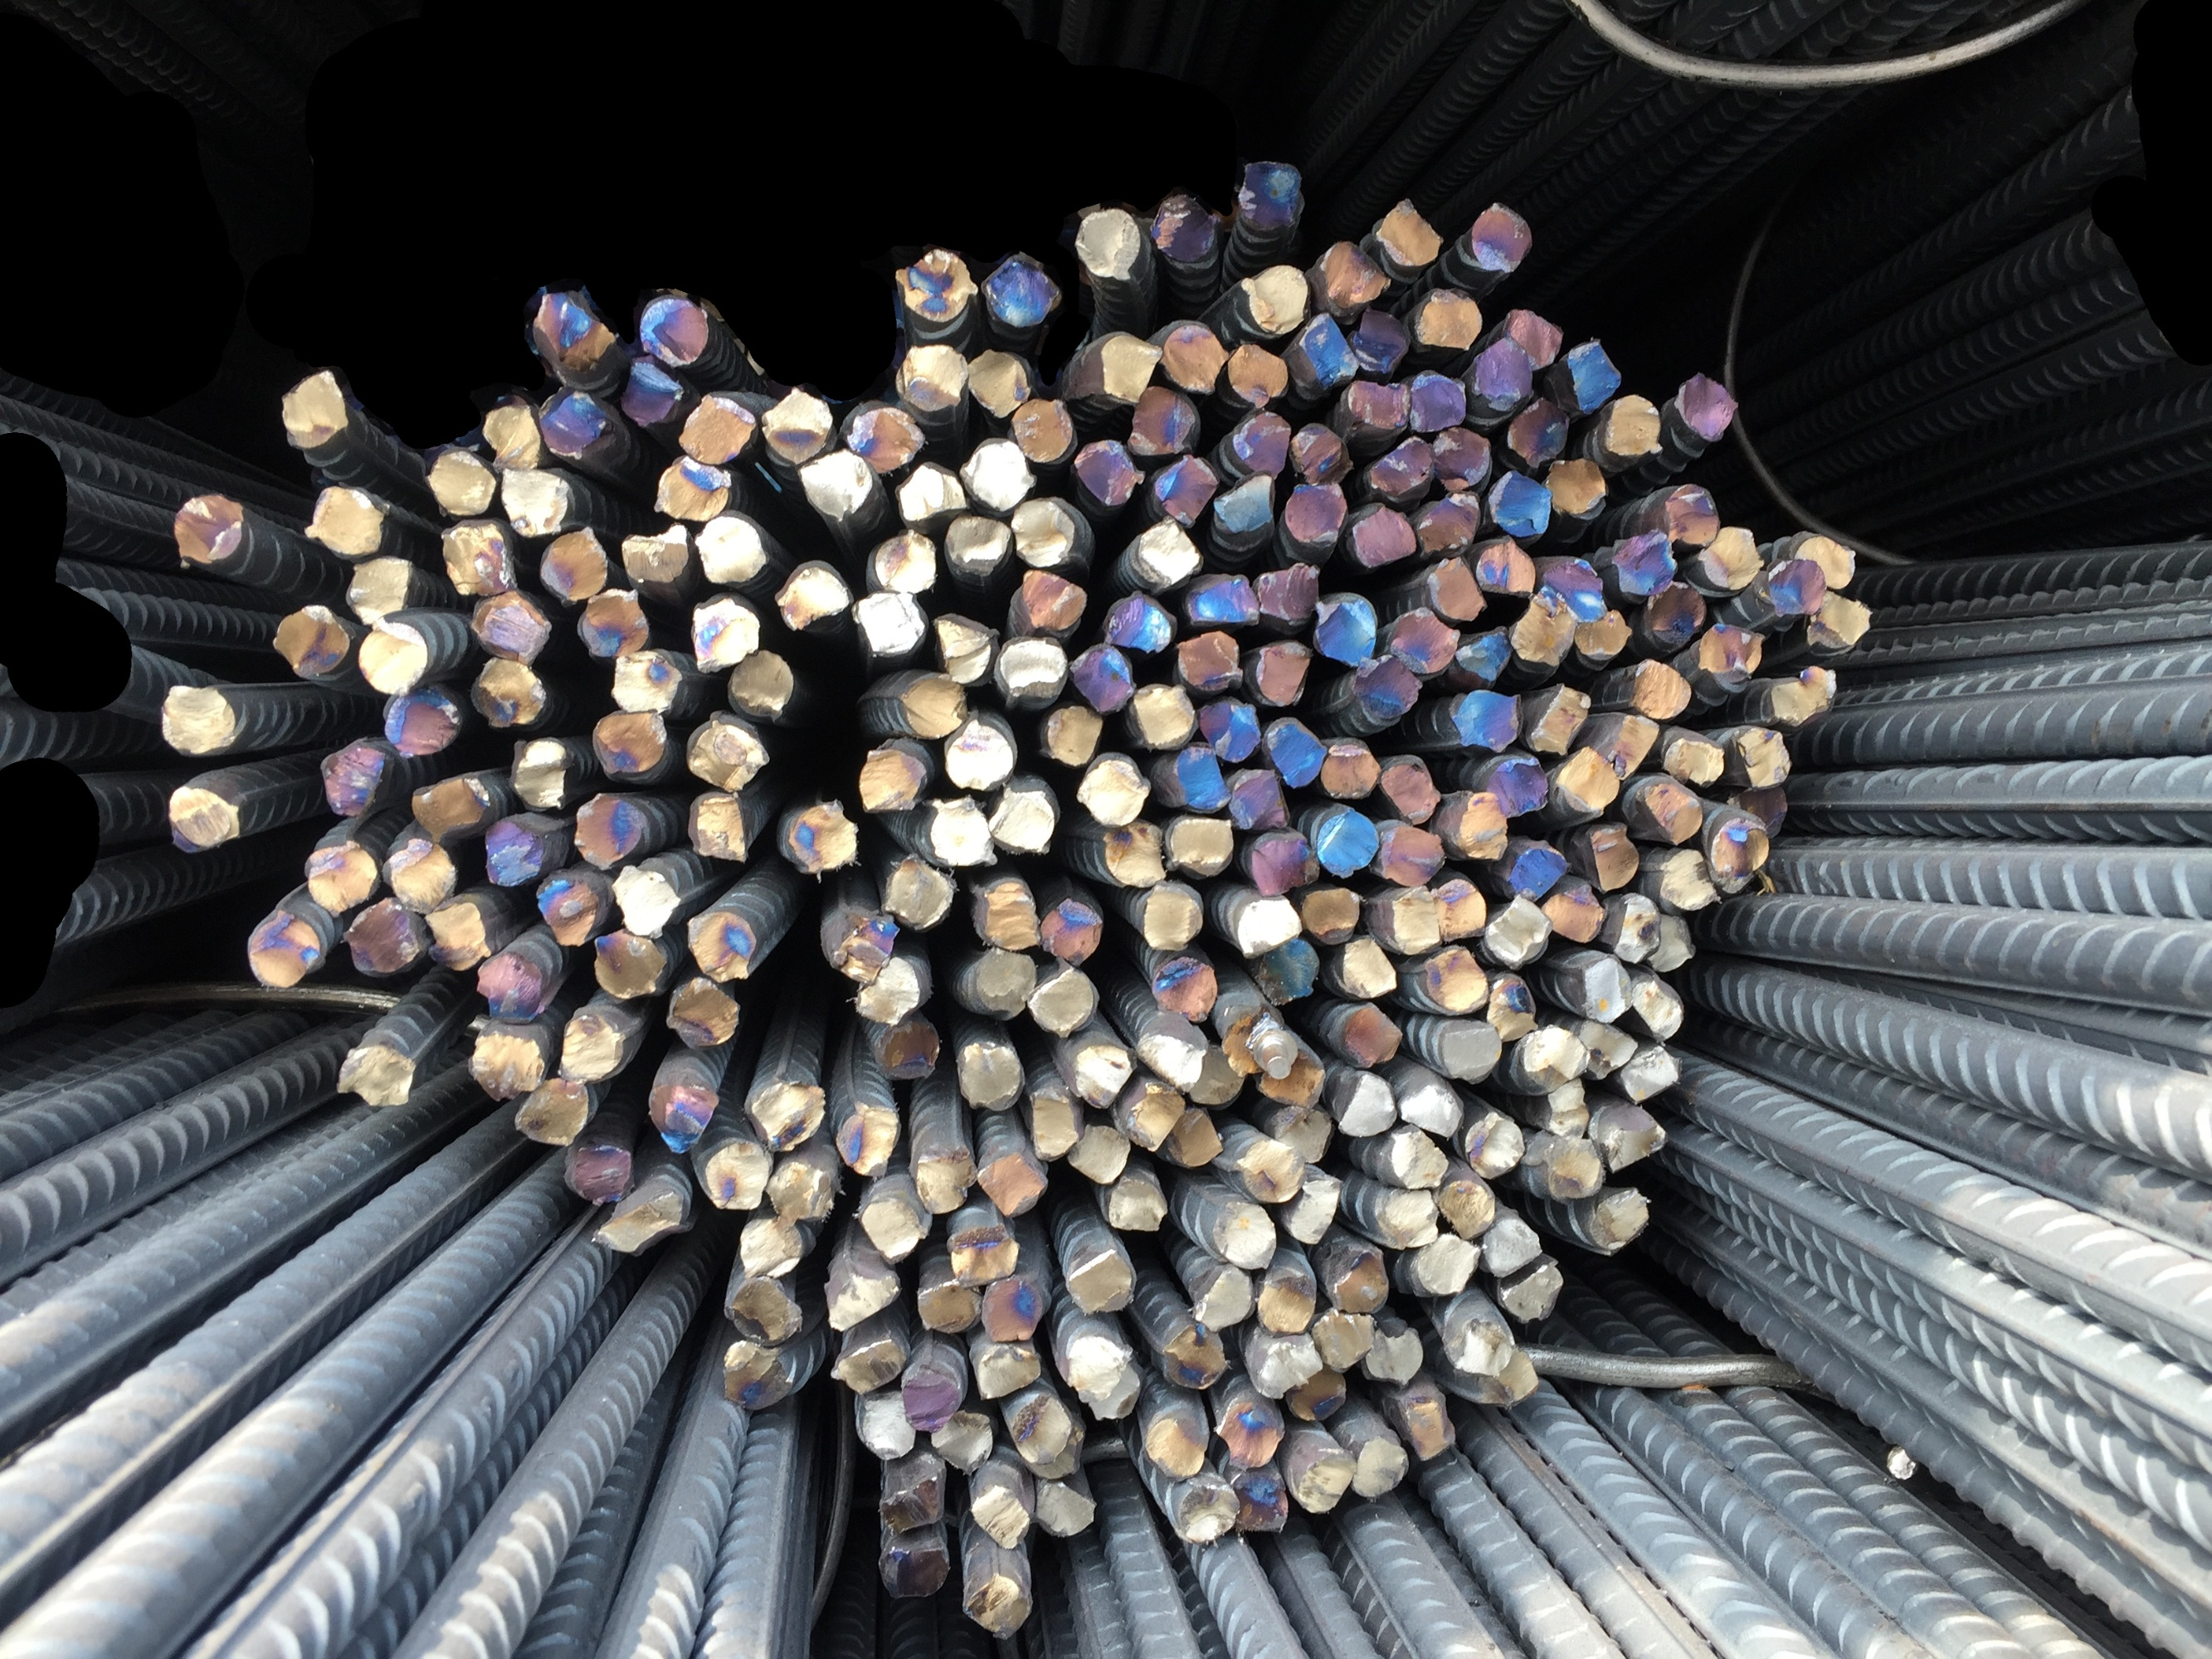rebar: (274, 367, 358, 461), (532, 287, 618, 378), (589, 1176, 690, 1253), (342, 894, 431, 978), (1067, 329, 1163, 407), (684, 710, 772, 792), (245, 901, 326, 991), (158, 681, 251, 760), (466, 655, 561, 733), (355, 610, 438, 697), (469, 588, 559, 666), (439, 518, 529, 596), (163, 774, 249, 855), (301, 480, 392, 558), (796, 450, 879, 530), (894, 246, 980, 326), (382, 828, 459, 916), (270, 602, 353, 684), (744, 1070, 826, 1151), (982, 251, 1063, 333), (301, 832, 382, 914), (875, 851, 956, 933), (1051, 1029, 1137, 1109), (840, 398, 927, 474), (170, 491, 251, 573), (572, 787, 652, 870), (774, 555, 855, 636), (818, 903, 898, 984), (773, 799, 857, 876), (467, 1025, 552, 1102), (987, 770, 1063, 855), (421, 441, 501, 519), (959, 434, 1037, 515), (411, 770, 495, 848), (676, 388, 759, 465), (966, 866, 1040, 951), (692, 507, 770, 587), (822, 1253, 904, 1332), (1011, 495, 1096, 568), (651, 454, 743, 522), (537, 385, 616, 463), (696, 1133, 773, 1212), (1311, 241, 1391, 318), (647, 1073, 722, 1154), (1027, 956, 1102, 1038), (1073, 207, 1147, 289), (475, 951, 559, 1025), (336, 1034, 421, 1106), (589, 710, 672, 783), (977, 1138, 1050, 1222), (954, 949, 1037, 1024), (763, 1146, 840, 1224), (317, 738, 392, 820), (424, 892, 499, 972), (944, 711, 1019, 791), (689, 589, 763, 673), (379, 688, 465, 758), (575, 587, 651, 664), (618, 353, 696, 428), (855, 1189, 932, 1266), (1235, 264, 1311, 339), (1364, 197, 1442, 273), (611, 860, 685, 939), (1074, 752, 1152, 827), (537, 525, 611, 604), (759, 385, 833, 465), (850, 951, 932, 1024), (885, 668, 968, 738), (931, 608, 1001, 690), (512, 1077, 597, 1146), (1466, 337, 1535, 421), (1236, 159, 1304, 244), (638, 292, 714, 367), (996, 634, 1069, 711), (1126, 386, 1203, 460), (1459, 201, 1533, 277), (721, 1339, 801, 1411), (851, 589, 929, 663), (1134, 1013, 1208, 1092), (956, 1034, 1026, 1114), (834, 1100, 904, 1181), (1508, 591, 1576, 674), (1040, 880, 1104, 968), (1151, 197, 1225, 271), (1383, 607, 1457, 681), (1629, 771, 1703, 848), (724, 1272, 802, 1345), (894, 456, 968, 533), (894, 341, 971, 416), (1128, 515, 1205, 589), (1212, 1394, 1284, 1471), (592, 929, 670, 1000), (558, 1010, 638, 1081), (1291, 312, 1361, 392), (685, 907, 761, 981), (726, 649, 798, 726), (962, 1566, 1036, 1640), (1069, 435, 1146, 509), (508, 737, 579, 814), (1092, 1161, 1168, 1233), (922, 799, 998, 870), (1155, 318, 1228, 393), (1604, 529, 1681, 601), (1484, 894, 1552, 972), (1556, 336, 1622, 416), (1706, 810, 1770, 896), (1112, 1080, 1185, 1154), (666, 976, 740, 1047), (1147, 454, 1219, 528), (967, 1475, 1038, 1550), (1057, 1326, 1133, 1395), (1669, 371, 1738, 448), (535, 866, 602, 945), (911, 1136, 978, 1216), (1007, 570, 1088, 636), (1459, 1345, 1542, 1410), (343, 555, 416, 627), (1064, 1243, 1137, 1314), (499, 466, 573, 537), (685, 792, 761, 863), (878, 1462, 948, 1536), (858, 742, 933, 811), (737, 1210, 815, 1277), (1552, 745, 1620, 820), (1092, 820, 1167, 888), (1069, 640, 1136, 718), (1526, 681, 1591, 759), (1425, 1018, 1502, 1084), (1640, 482, 1721, 547), (622, 522, 694, 593), (1501, 397, 1573, 469), (1692, 624, 1764, 696), (1562, 951, 1633, 1022), (1025, 1078, 1085, 1163), (1222, 407, 1291, 480), (1207, 1199, 1278, 1272), (1141, 1406, 1211, 1480), (1415, 946, 1488, 1016), (1262, 716, 1329, 791), (860, 529, 938, 596), (1440, 1311, 1516, 1377), (1327, 1002, 1403, 1068), (1511, 1026, 1590, 1091), (1313, 590, 1376, 669), (483, 818, 552, 888), (944, 514, 1015, 585), (1413, 285, 1484, 355), (1537, 553, 1609, 622), (1803, 589, 1872, 661), (1156, 1321, 1227, 1391), (1310, 805, 1380, 876), (946, 1220, 1021, 1287), (1350, 656, 1422, 726), (1477, 750, 1550, 818), (1232, 1136, 1305, 1204), (1360, 436, 1435, 501), (1485, 470, 1552, 545), (1102, 590, 1177, 654), (1595, 1107, 1669, 1173), (1246, 1335, 1323, 1399), (1222, 893, 1302, 955), (1148, 951, 1218, 1022), (1697, 524, 1765, 596), (610, 648, 683, 715), (1634, 581, 1707, 646), (1766, 663, 1839, 728), (1244, 829, 1318, 896), (1211, 470, 1276, 546), (1463, 1103, 1525, 1180), (1003, 1394, 1072, 1462), (1258, 1040, 1328, 1109), (1250, 936, 1320, 1005), (563, 1141, 634, 1205), (1065, 1115, 1132, 1187), (1433, 1167, 1499, 1239), (1283, 481, 1347, 555), (1451, 688, 1525, 753), (1532, 1136, 1605, 1200), (970, 1340, 1044, 1403), (1545, 455, 1608, 530), (1377, 752, 1440, 826), (1393, 1388, 1456, 1462), (967, 347, 1035, 416), (1195, 694, 1261, 762), (1189, 1262, 1256, 1329), (851, 1389, 918, 1458), (982, 1277, 1051, 1344), (1034, 703, 1104, 770), (1347, 504, 1417, 571), (1289, 1444, 1355, 1515), (1498, 1258, 1566, 1325), (1397, 1069, 1464, 1139), (1585, 1188, 1651, 1258), (900, 1361, 963, 1433), (481, 398, 543, 470), (1350, 305, 1411, 378), (1406, 1234, 1479, 1297), (877, 1539, 952, 1600), (864, 1019, 940, 1081), (1284, 1170, 1344, 1247), (831, 1336, 907, 1396), (1183, 572, 1261, 630), (914, 1270, 982, 1338), (1415, 491, 1482, 559), (1756, 560, 1825, 625), (1164, 745, 1230, 813), (1138, 884, 1205, 951), (1323, 1247, 1389, 1314), (1370, 1187, 1439, 1253), (1332, 1070, 1397, 1137), (1331, 933, 1397, 1000), (1539, 878, 1607, 944), (1227, 1468, 1291, 1540), (1381, 1124, 1449, 1189), (1377, 820, 1446, 885), (1227, 342, 1289, 412), (1341, 376, 1411, 440), (1600, 392, 1663, 463), (1596, 712, 1659, 782), (1170, 1481, 1240, 1545), (1776, 533, 1857, 590), (1349, 1433, 1411, 1506), (1011, 397, 1078, 463), (1288, 419, 1355, 484), (1129, 681, 1196, 748), (1167, 815, 1235, 882), (1422, 555, 1486, 623), (1377, 885, 1442, 953), (1619, 1039, 1684, 1107), (1174, 629, 1245, 692), (1452, 788, 1510, 863), (929, 1408, 996, 1472), (1077, 1359, 1143, 1423), (1255, 561, 1320, 627), (1655, 848, 1720, 913), (1157, 1102, 1222, 1170), (1311, 1309, 1376, 1374), (1021, 1414, 1089, 1478), (1474, 533, 1536, 601), (1250, 639, 1312, 707), (1625, 658, 1693, 720), (1320, 733, 1381, 802), (1362, 1321, 1425, 1389), (1494, 307, 1563, 367), (1188, 1037, 1248, 1108), (1730, 725, 1793, 789), (1432, 426, 1495, 491), (1659, 726, 1726, 788), (1221, 1010, 1284, 1076), (1266, 1104, 1334, 1165), (1255, 1270, 1316, 1339), (1581, 823, 1640, 893), (1606, 892, 1663, 966), (1507, 836, 1569, 902), (1724, 781, 1791, 842), (1571, 1019, 1637, 1081), (1632, 966, 1686, 1041), (1407, 369, 1470, 432), (1227, 767, 1290, 829), (1452, 624, 1513, 688), (1035, 1479, 1098, 1540), (1484, 970, 1538, 1040), (1481, 1216, 1543, 1277), (1431, 873, 1488, 940), (1300, 883, 1360, 944), (1284, 1366, 1347, 1424), (1536, 1076, 1591, 1141), (1574, 611, 1632, 665), (1651, 910, 1698, 975)
